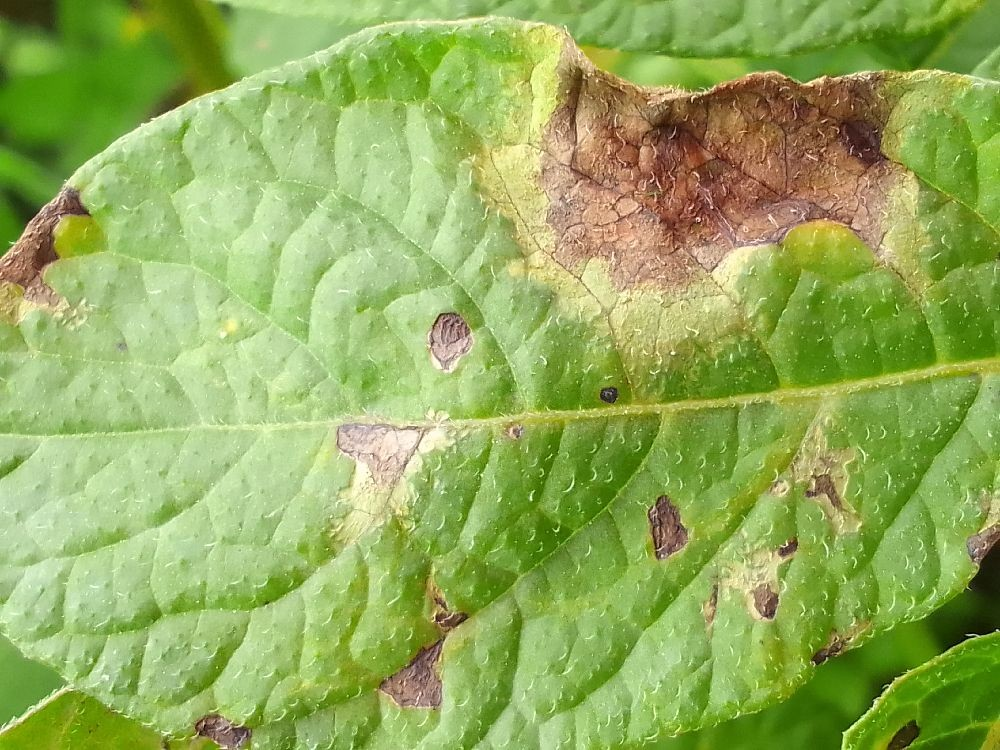late_blight: (523, 31, 929, 332), (360, 548, 490, 727), (0, 175, 106, 338), (960, 515, 1000, 605)
